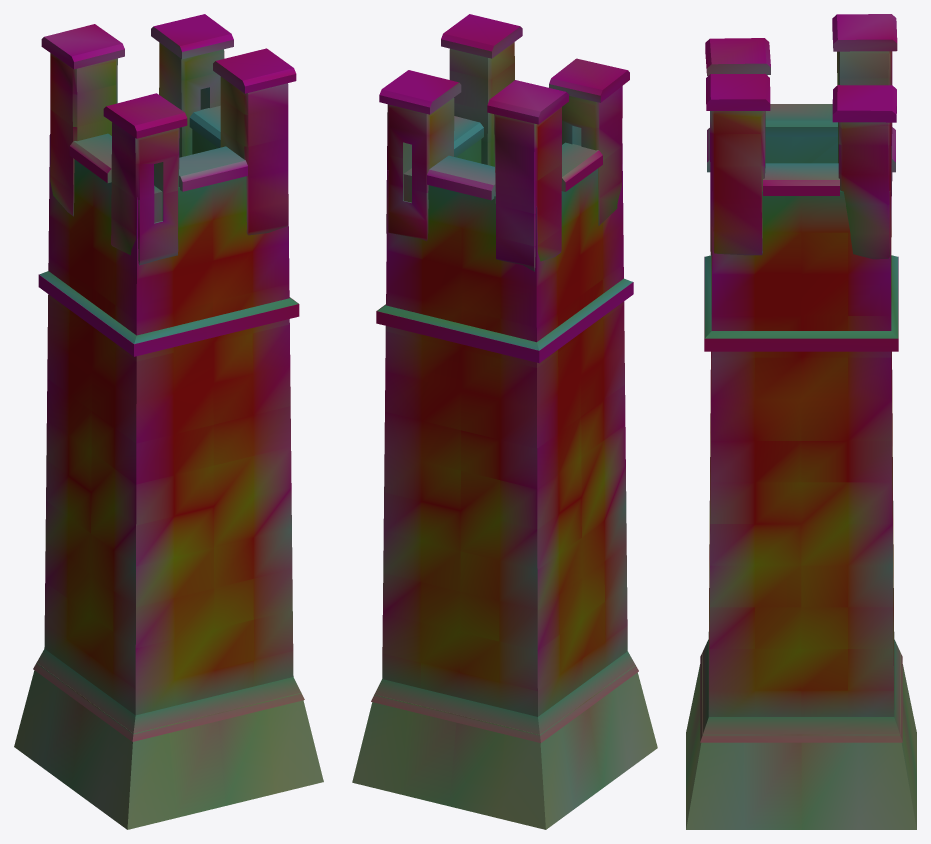
The model's file is wall_high_stub.glb.
The picture shows the model from 3 angles, left to right: view 1: azimuth 30°, elevation 25°; view 2: azimuth 150°, elevation 25°; view 3: azimuth 270°, elevation 25°; orthographic projection. The views are drawn at different scales.
Parts seen in each view (by area): view 1: wall_high_stub_LOD0; view 2: wall_high_stub_LOD0; view 3: wall_high_stub_LOD0.
Boxes of the visible parts, left/top/right/bottom form: wall_high_stub_LOD0: left=14, top=14, right=323, bottom=829; wall_high_stub_LOD0: left=352, top=14, right=657, bottom=829; wall_high_stub_LOD0: left=686, top=14, right=916, bottom=829.
Size of what is drawn, in the model's own units: 0.9 by 3.13 by 0.9.
